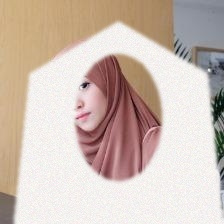Mukena: (9, 36, 224, 224)
